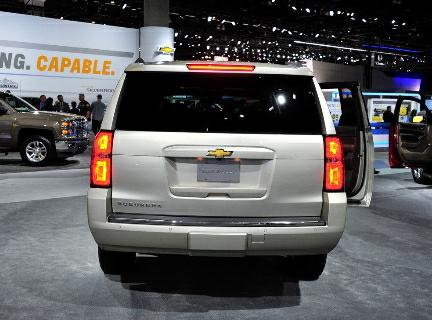雪佛兰-Suburban: (80, 52, 349, 282)
